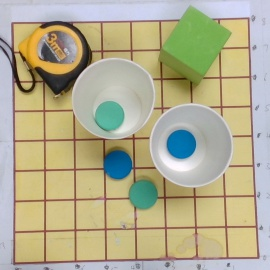blue: (103, 149, 133, 179)
cup_blue: (149, 104, 233, 189)
cup_green: (71, 57, 157, 142)
green: (129, 179, 158, 210)
